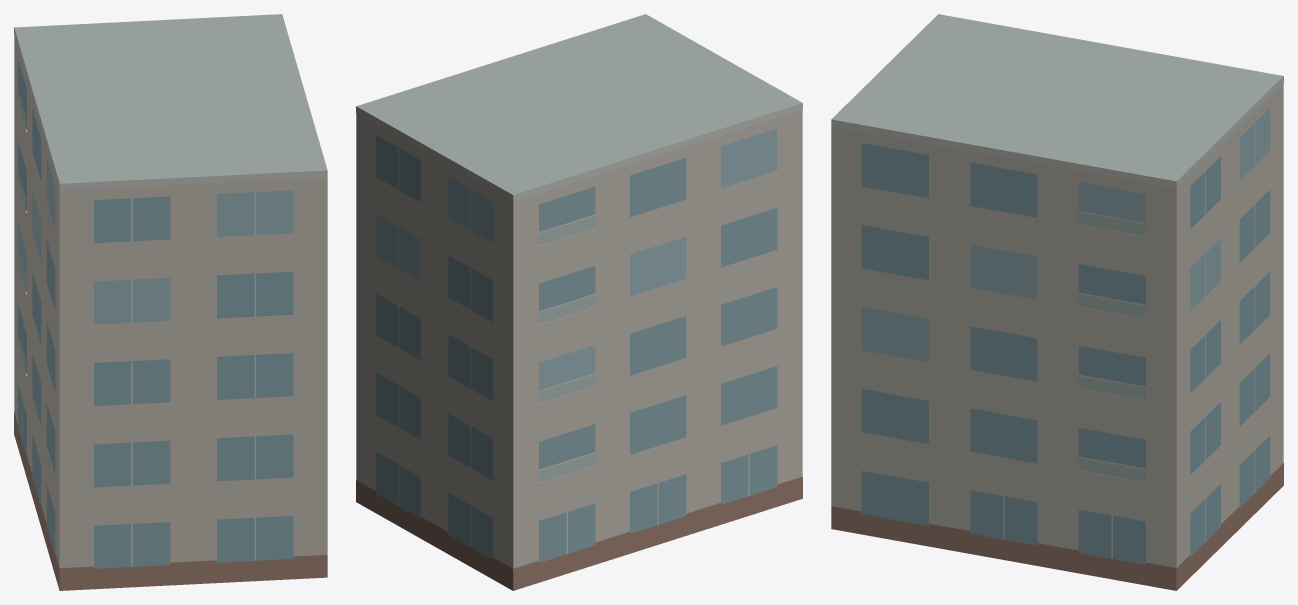
Rendered from survey-upis-32534776.glb.
The picture shows the model from 3 angles, left to right: view 1: azimuth 30°, elevation 25°; view 2: azimuth 150°, elevation 25°; view 3: azimuth 270°, elevation 25°; orthographic projection. The views are drawn at different scales.
Parts seen in each view (by area): view 1: survey-upis-32534776.tmp; view 2: survey-upis-32534776.tmp; view 3: survey-upis-32534776.tmp.
Part boxes in pixels (x1,y1,x2,y2): survey-upis-32534776.tmp: (14, 14, 327, 590); survey-upis-32534776.tmp: (356, 14, 802, 590); survey-upis-32534776.tmp: (831, 14, 1283, 590).
Size of the model in its own units: 12.72 by 14.5 by 14.53.
